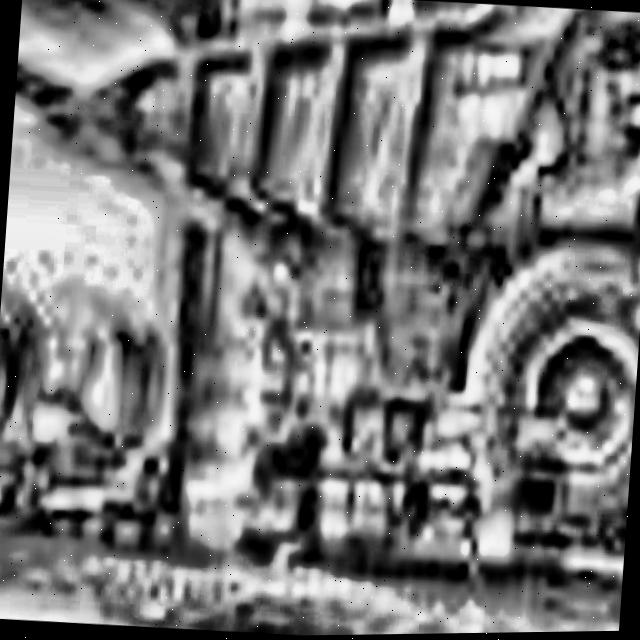dump_truck: (0, 0, 640, 546)
